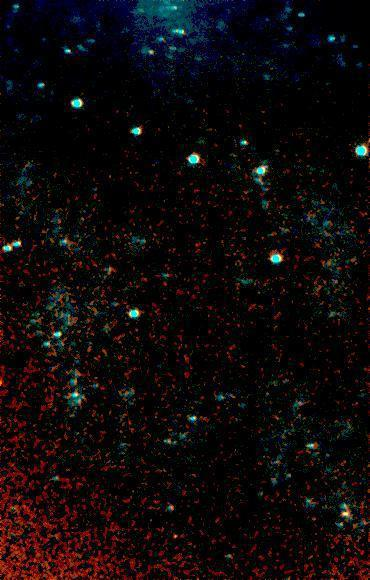star: (159, 526, 189, 556)
